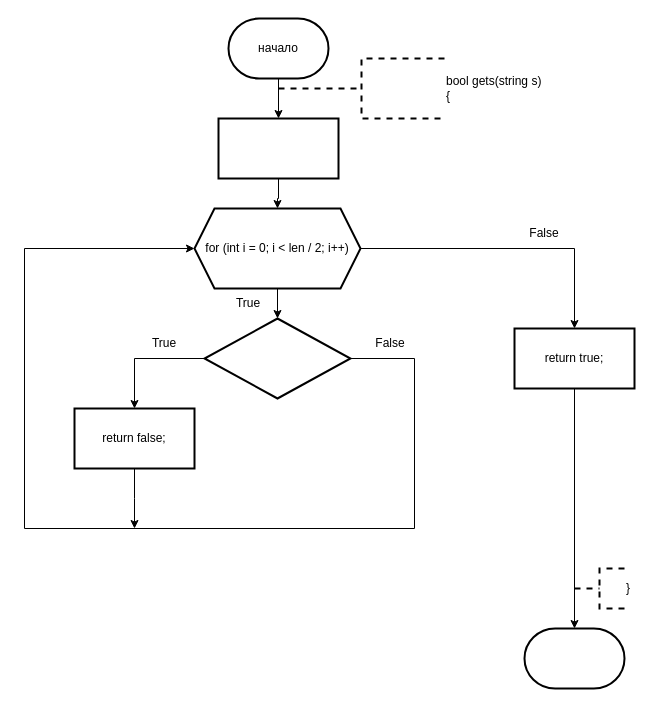
The diagram is 653 pixels wide and 706 high, and some of its shapes have lost their labels. The shapes that lost their labels are listed below. From the top down, each one's centre as x and y in pixels, then its label:
pixel 278 148: int len =s.length();
pixel 277 358: if (s[i] != s[len - i - 1])
pixel 574 658: конец
